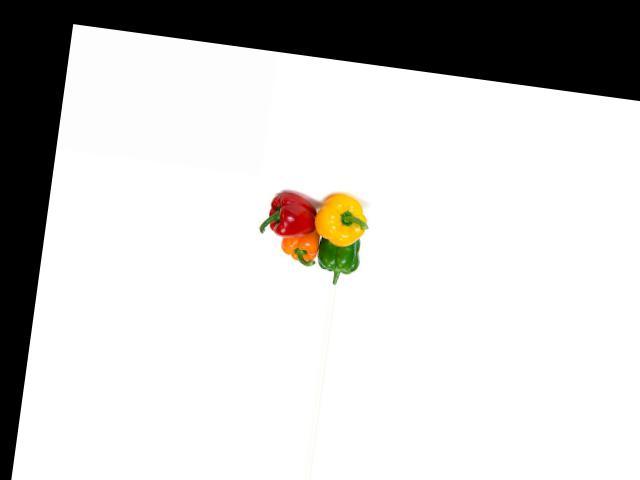bell_pepper: (310, 188, 375, 250)
